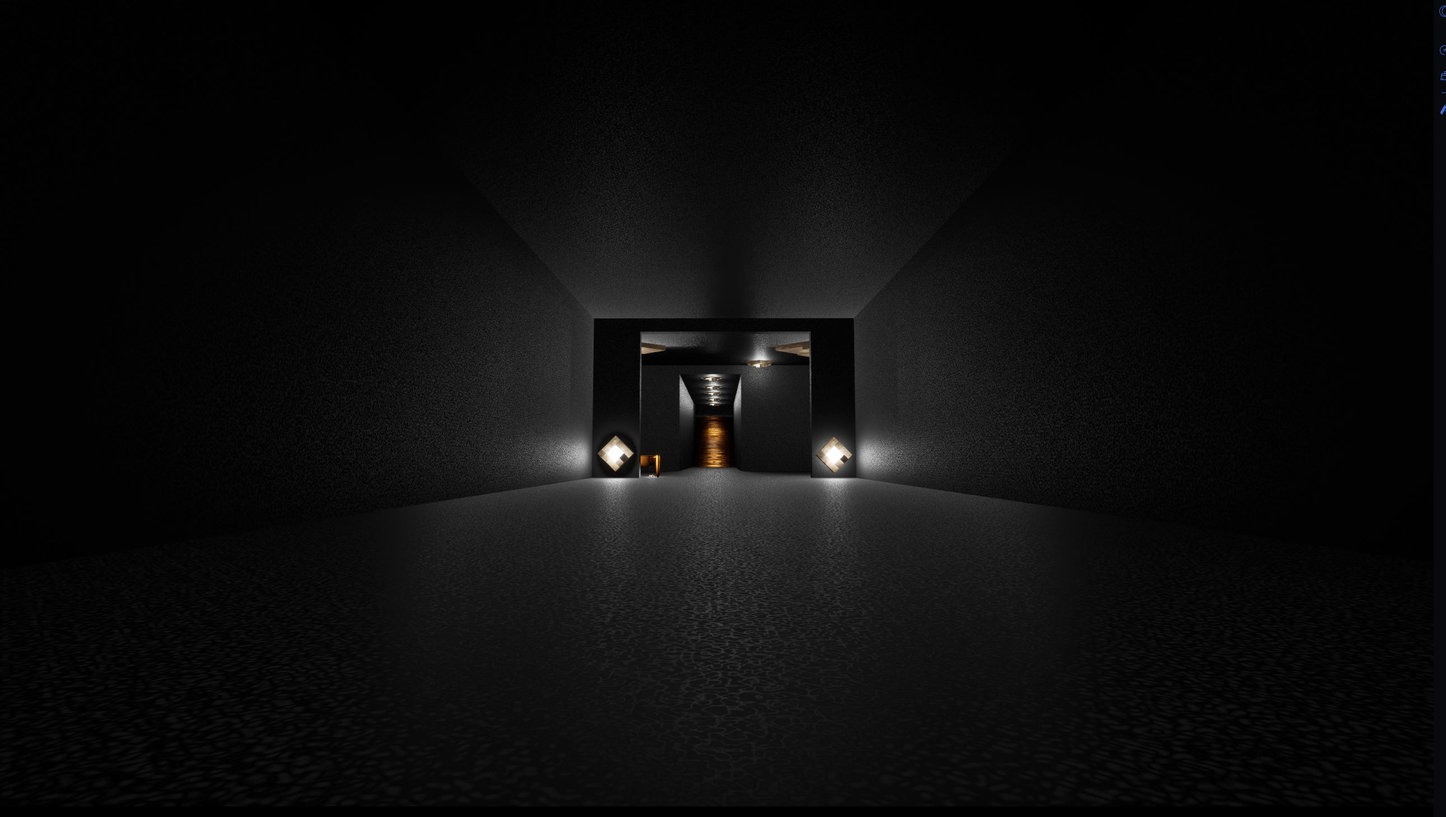not a gesture sign: (569, 260, 962, 625)
